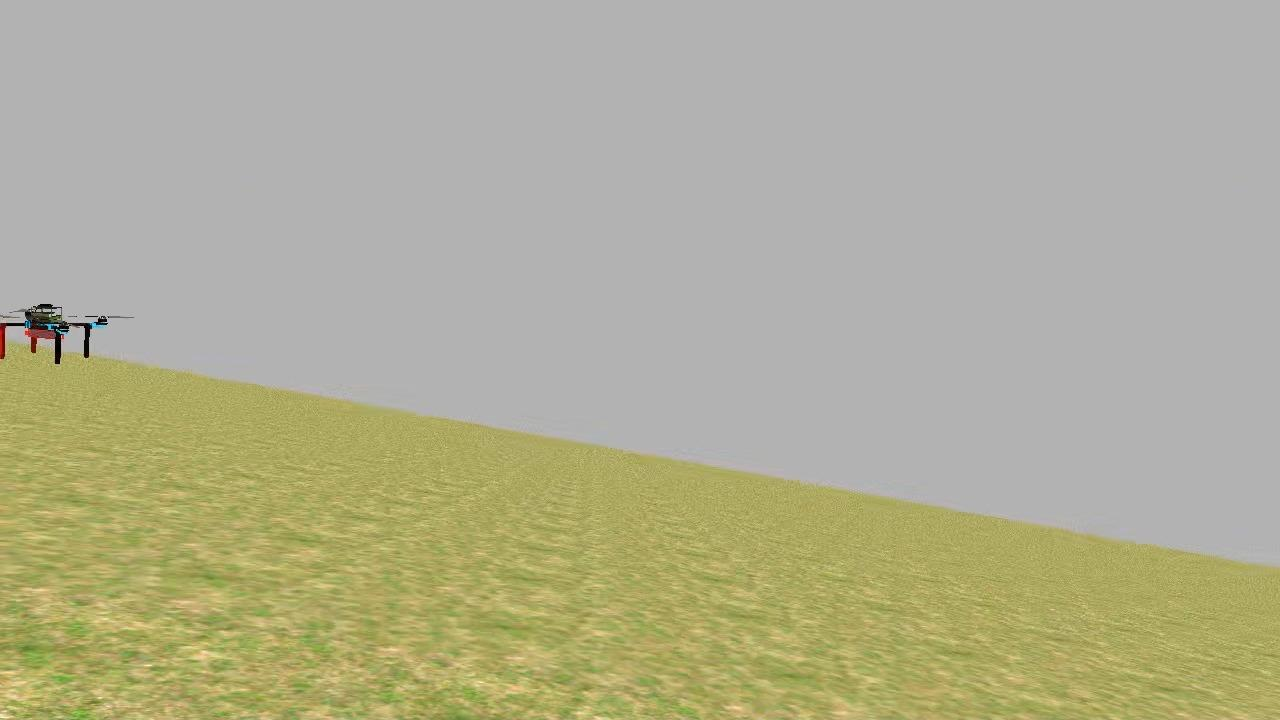UAV: (0, 294, 117, 367)
